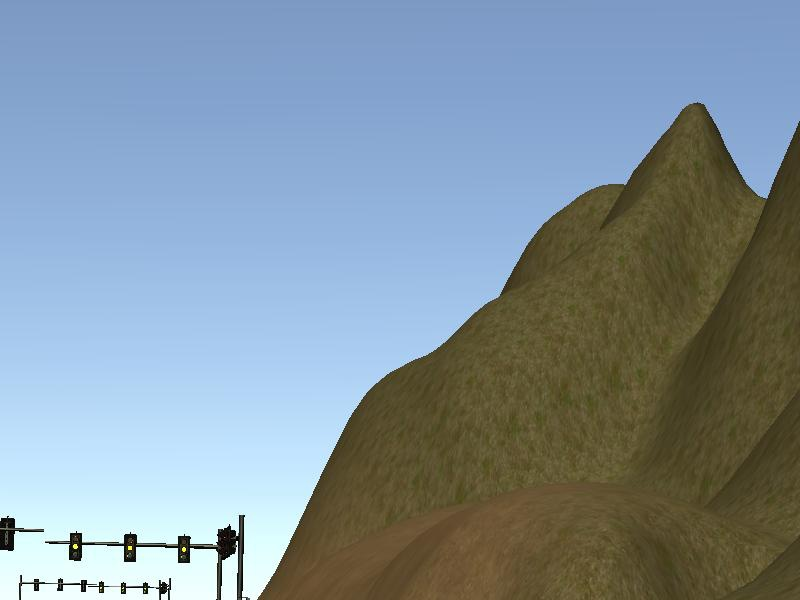yellow_light: (123, 535, 138, 562), (69, 532, 81, 559), (179, 537, 189, 561)
